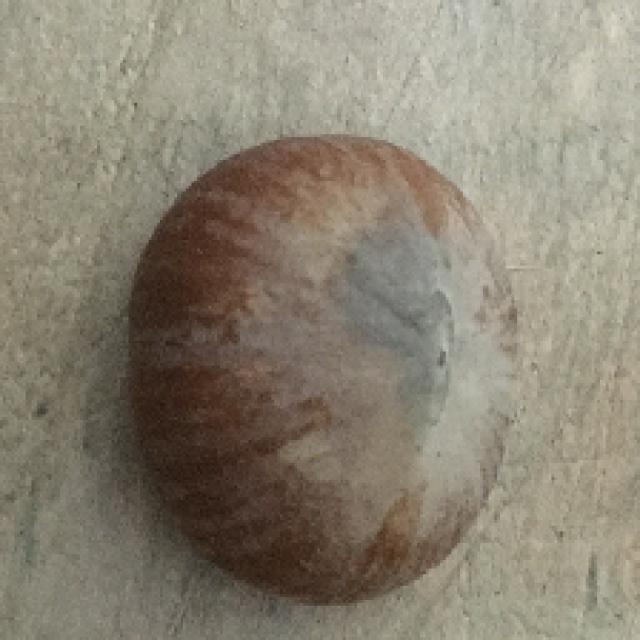QualityHazelnut: (130, 133, 520, 604)
